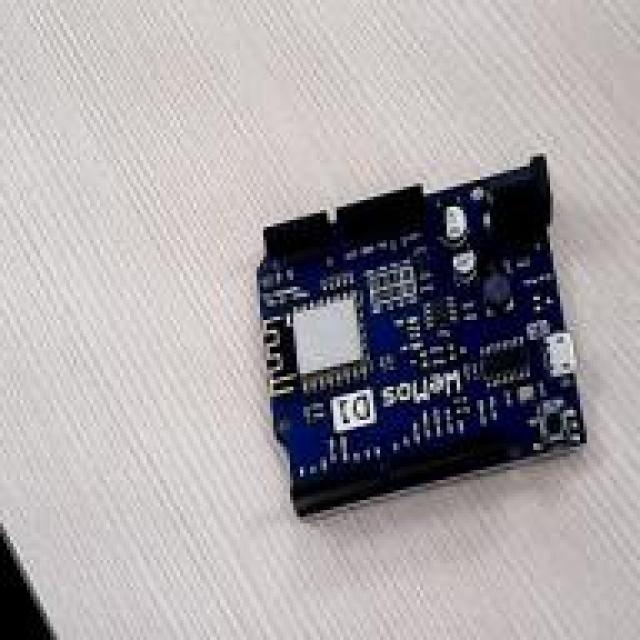Wemos: (258, 158, 584, 514)
